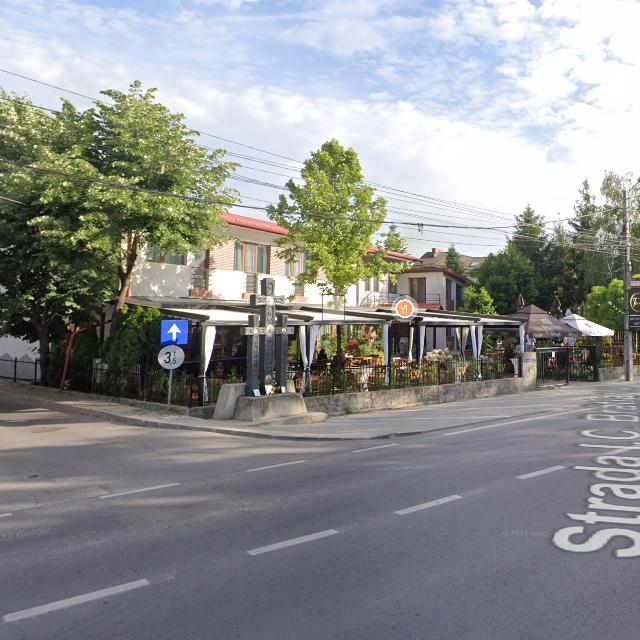forb_weight_over_3.5t: (158, 345, 186, 370)
info_one_way_traffic: (160, 320, 188, 346)
